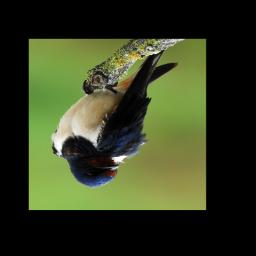Swallow: (50, 48, 179, 188)
